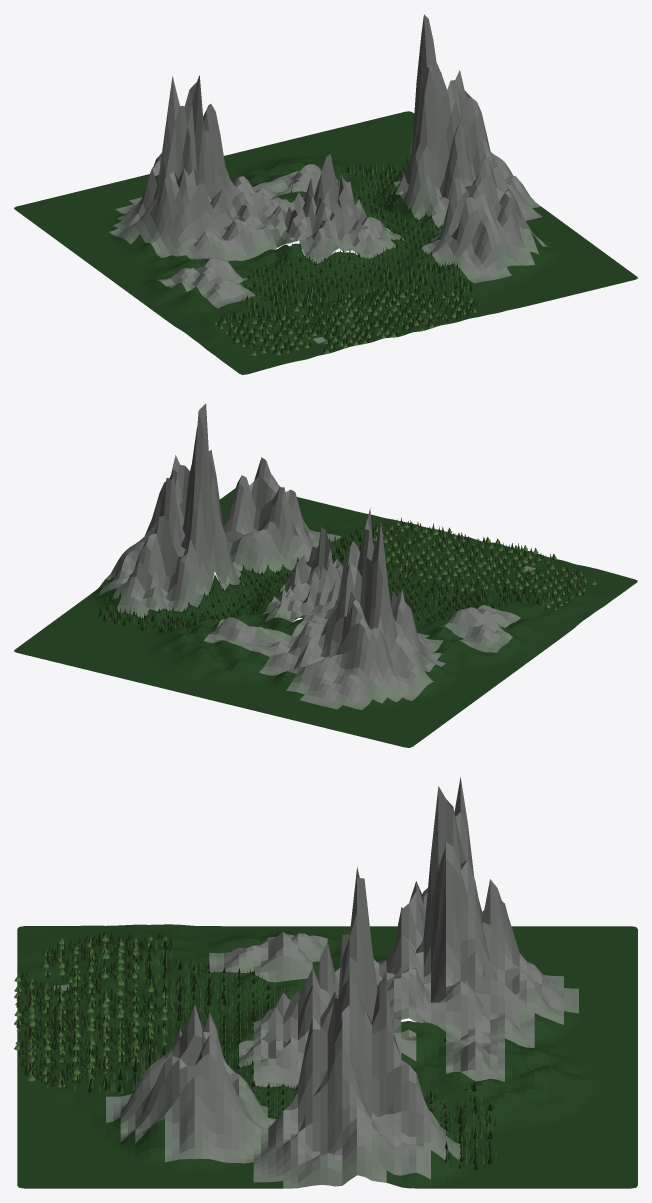
The model's file is BackgroundMenu_AppliedEffects_ConvertedPS_v2.fbx.
3 views of the same model, one above another, from view 1: azimuth 30°, elevation 25°; view 2: azimuth 150°, elevation 25°; view 3: azimuth 270°, elevation 25° (orthographic). The views are drawn at different scales.
Parts seen in each view (by area): view 1: Plane.000, Plane.001; view 2: Plane.000, Plane.001; view 3: Plane.000, Plane.001.
Part boxes in pixels (left/top/right/bottom): Plane.000: left=14, top=111, right=637, bottom=374; Plane.001: left=109, top=14, right=546, bottom=308; Plane.000: left=14, top=488, right=637, bottom=747; Plane.001: left=98, top=403, right=520, bottom=709; Plane.000: left=17, top=924, right=637, bottom=1188; Plane.001: left=106, top=777, right=578, bottom=1188.
Size of the model in its own units: 1400 by 663 by 1407.
